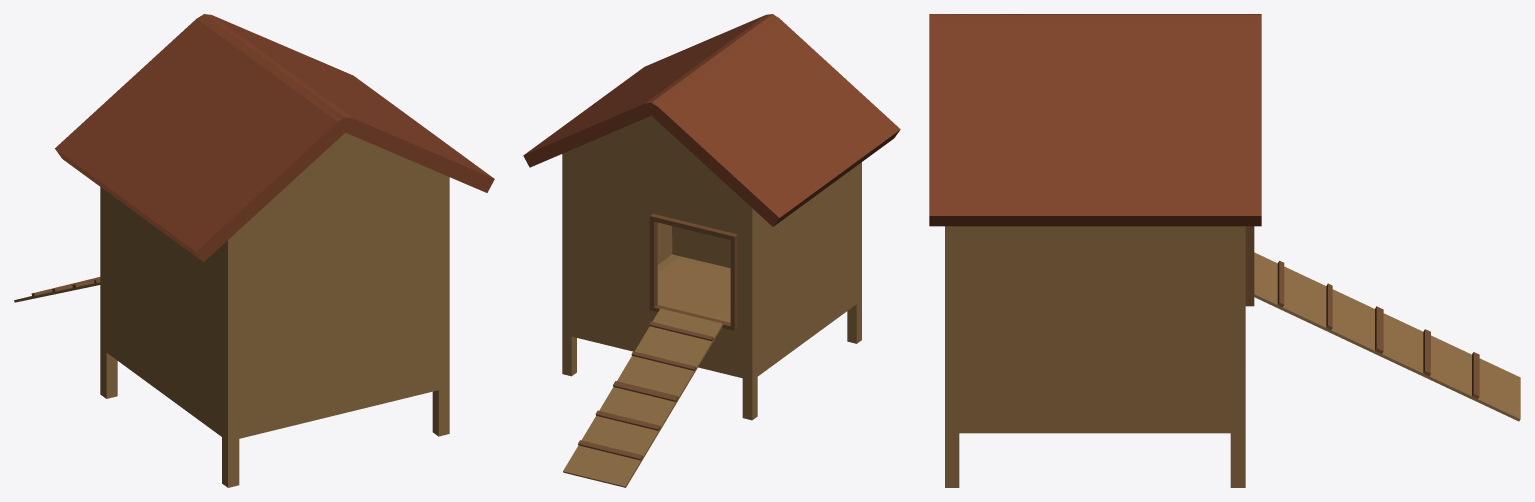
File: Chicken house.fbx
The picture shows the model from 3 angles, left to right: view 1: azimuth 30°, elevation 25°; view 2: azimuth 150°, elevation 25°; view 3: azimuth 270°, elevation 25°; orthographic projection. The views are drawn at different scales.
Visible parts, largest first — view 1: Cube, Plane; view 2: Cube, Plane; view 3: Cube, Plane.
Part boxes in pixels (x1=…): Cube: x1=55, y1=14, x2=494, y2=487; Plane: x1=14, y1=277, x2=100, y2=302; Cube: x1=523, y1=14, x2=900, y2=420; Plane: x1=563, y1=308, x2=722, y2=487; Cube: x1=929, y1=14, x2=1261, y2=487; Plane: x1=1254, y1=252, x2=1520, y2=421.
Size of the model in its own units: 2.7 by 3.93 by 3.01.
